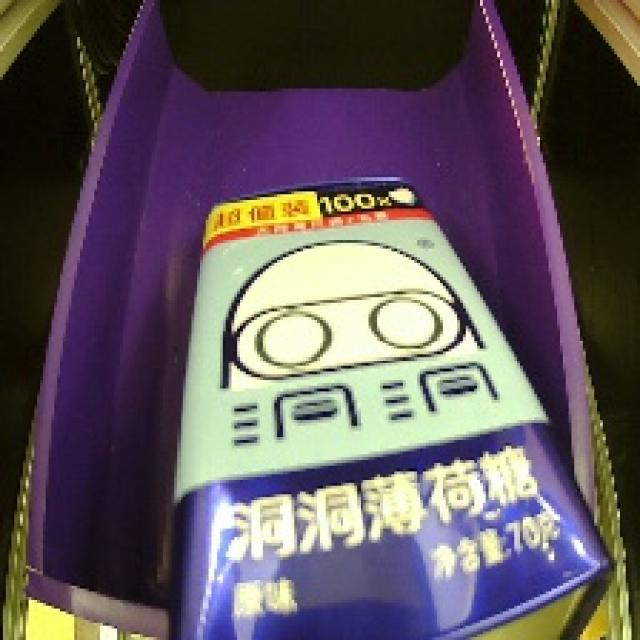metal: (161, 162, 632, 640)
